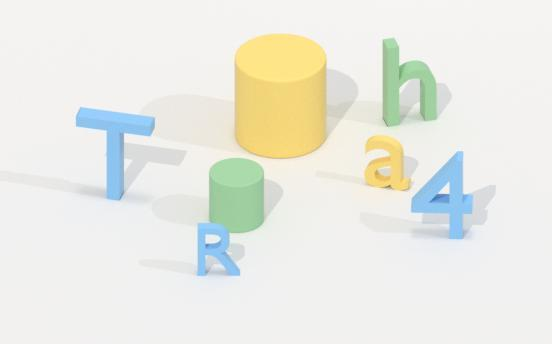chu_khoi: (76, 107, 154, 199), (382, 38, 436, 125), (364, 135, 409, 190), (197, 223, 239, 275)
so_khoi: (411, 151, 472, 238)
tru: (235, 34, 326, 157), (209, 158, 264, 232)
